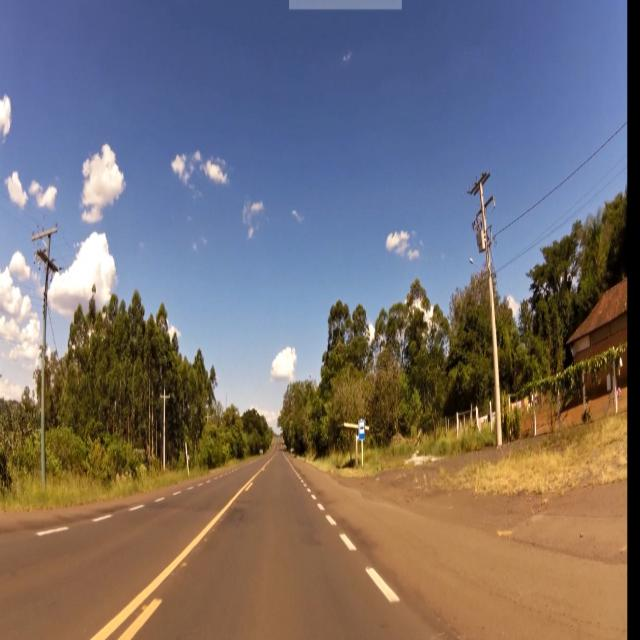S-14: (359, 418, 365, 441)
